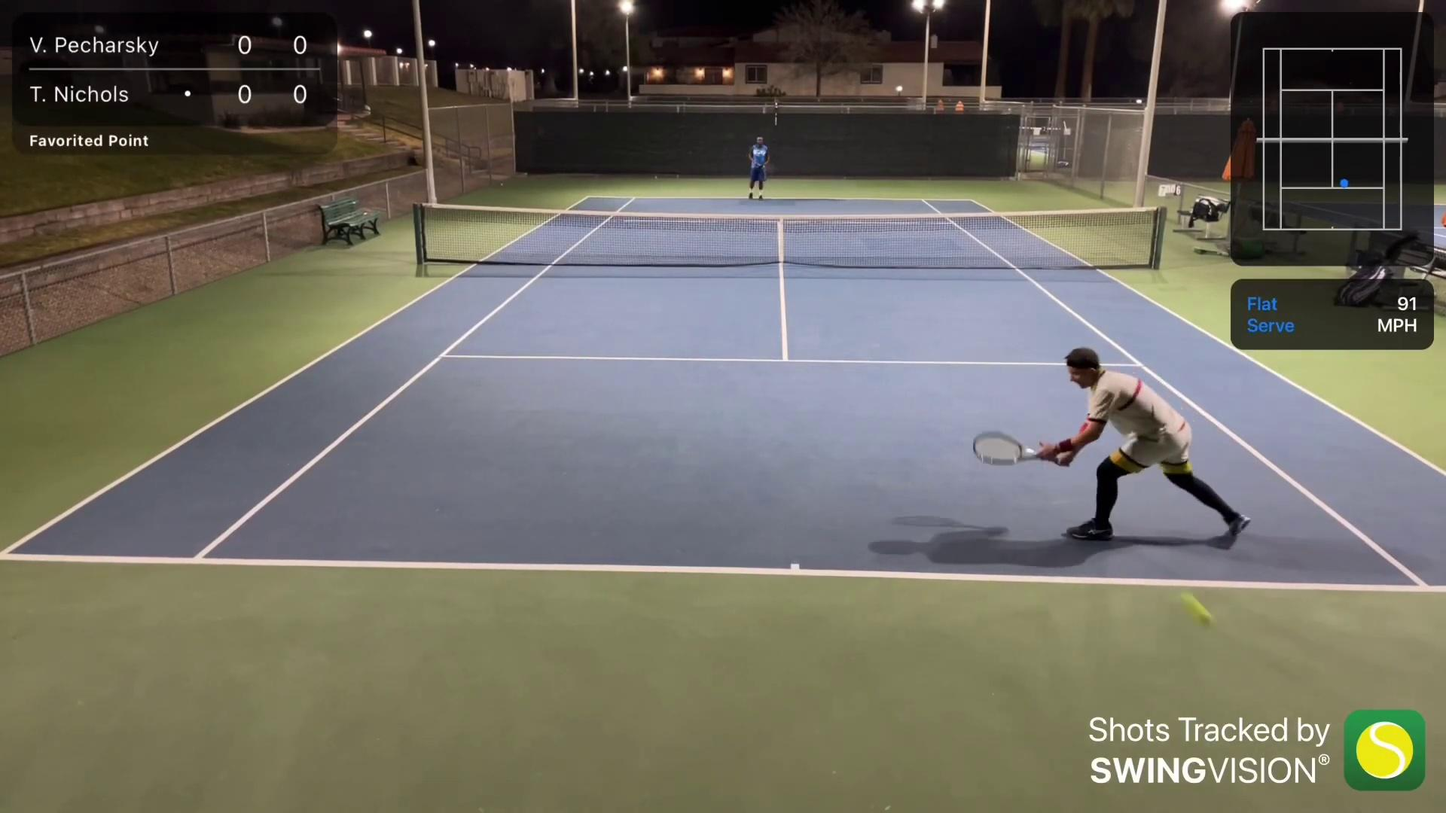ball: (1181, 603, 1219, 633), (654, 174, 659, 181), (498, 181, 503, 187)
